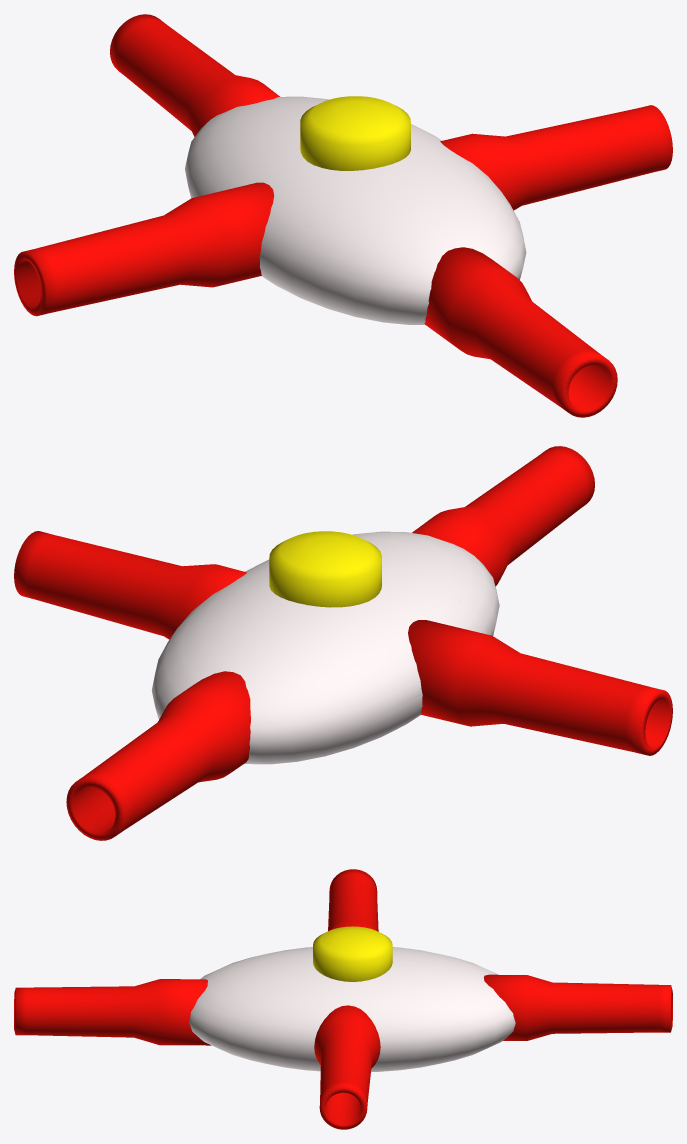
The model's file is SurroundSoundColoured.fbx.
3 views of the same model, one above another, from view 1: azimuth 30°, elevation 25°; view 2: azimuth 150°, elevation 25°; view 3: azimuth 270°, elevation 25° (orthographic). The views are drawn at different scales.
Visible parts, largest first — view 1: Cylinder, Sphere; view 2: Cylinder, Sphere; view 3: Cylinder, Sphere.
Part boxes in pixels (box(x1,y1,x2,y2)): Cylinder: box(14, 14, 672, 417); Sphere: box(185, 96, 526, 324); Cylinder: box(14, 446, 672, 840); Sphere: box(151, 531, 499, 764); Cylinder: box(14, 869, 672, 1129); Sphere: box(189, 947, 515, 1071).
Bounding box in the file's own units: 983 × 253 × 1251.
